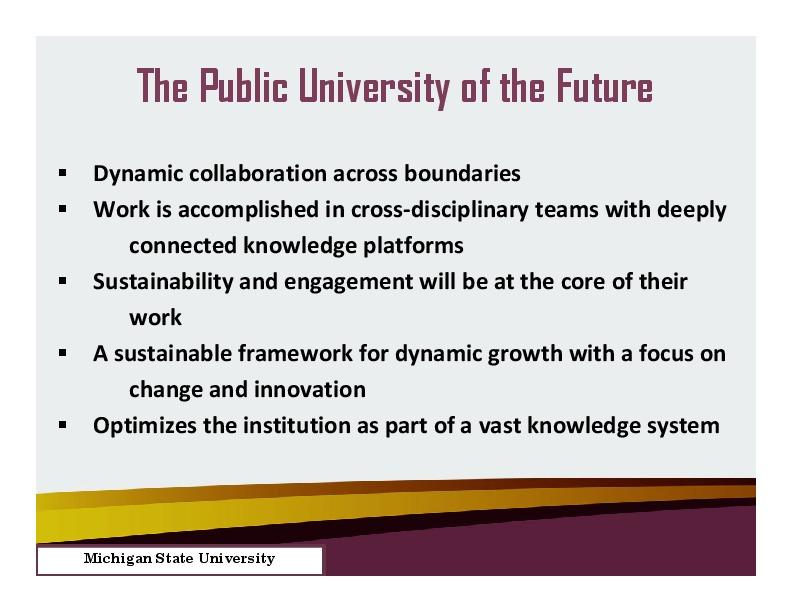title: (47, 140, 750, 456), (124, 54, 670, 121)
